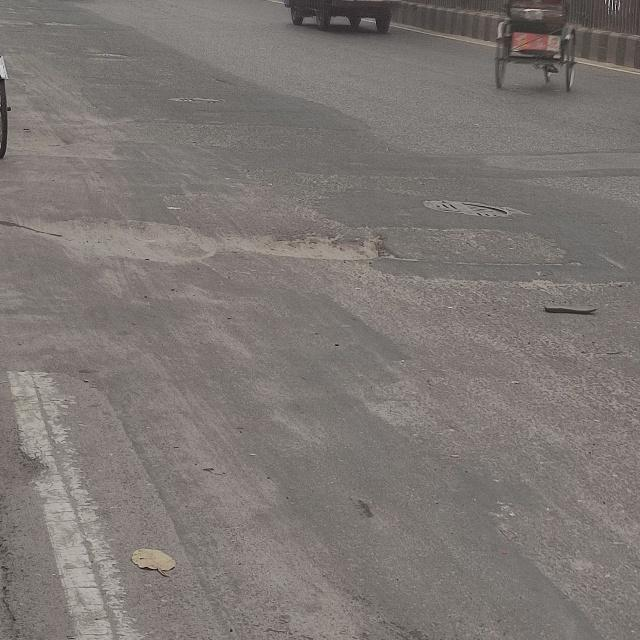Pothole: (279, 217, 391, 274)
